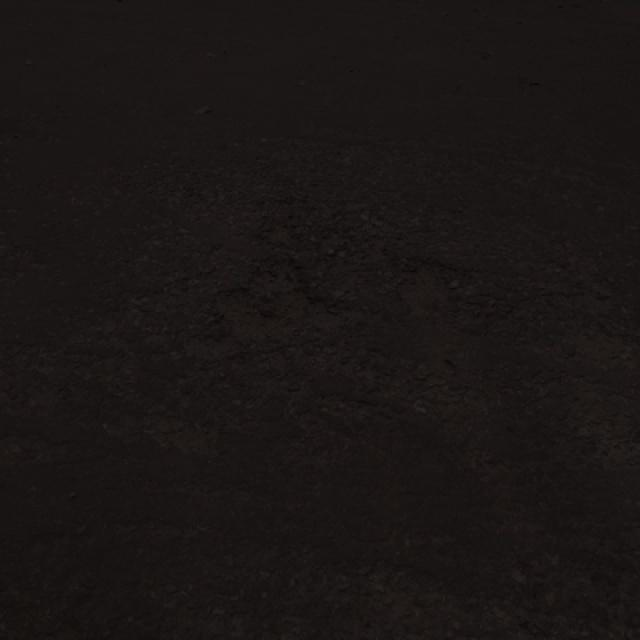Pothole: (212, 246, 493, 379)
